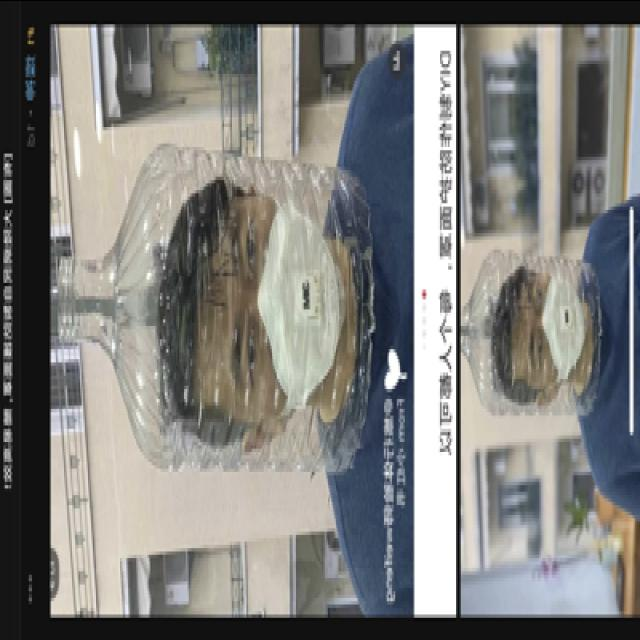mask: (229, 192, 339, 412), (526, 268, 584, 388)
